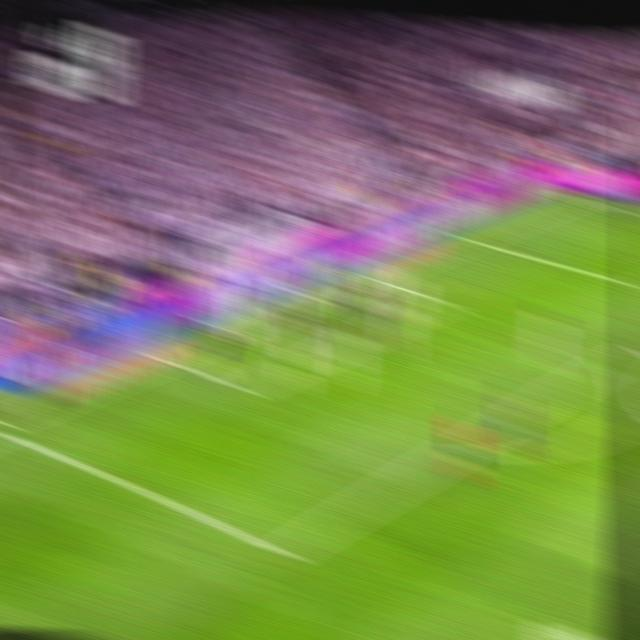bigarea_bottom_inner: (268, 533, 299, 573)
bigarea_top_outter: (453, 226, 480, 248)
corner: (556, 187, 584, 205)
smallarea_bottom_inner: (231, 374, 259, 403)
smallarea_bottom_outter: (152, 347, 178, 368)
smallarea_top_inner: (429, 288, 457, 313)
top_arc_area_intersection: (593, 351, 624, 380)
